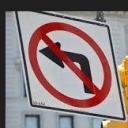NoVirarEsquerda: (25, 22, 116, 111)
